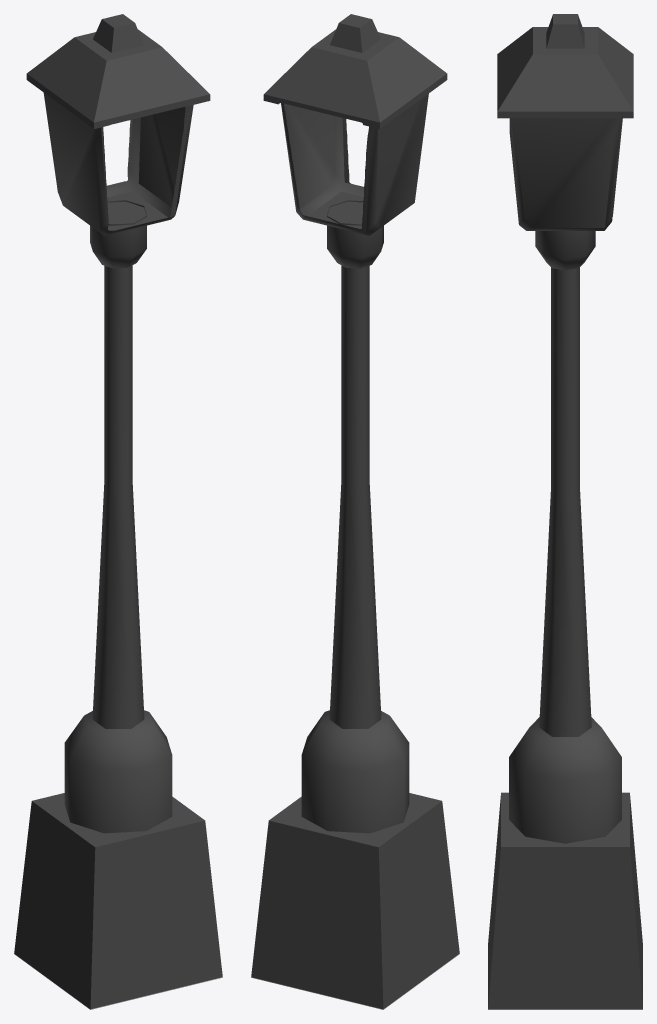
Rendered from farola3.obj.
The picture shows the model from 3 angles, left to right: view 1: azimuth 30°, elevation 25°; view 2: azimuth 150°, elevation 25°; view 3: azimuth 270°, elevation 25°; orthographic projection.
Visible parts, largest first — view 1: ParkLamp_Untitled_189; view 2: ParkLamp_Untitled_189; view 3: ParkLamp_Untitled_189.
Boxes of the visible parts, left/top/right/bottom form: ParkLamp_Untitled_189: left=14, top=14, right=222, bottom=1009; ParkLamp_Untitled_189: left=251, top=14, right=459, bottom=1009; ParkLamp_Untitled_189: left=488, top=14, right=642, bottom=1009.
Size of the model in its own units: 0.4832 by 3.3 by 0.4832.
